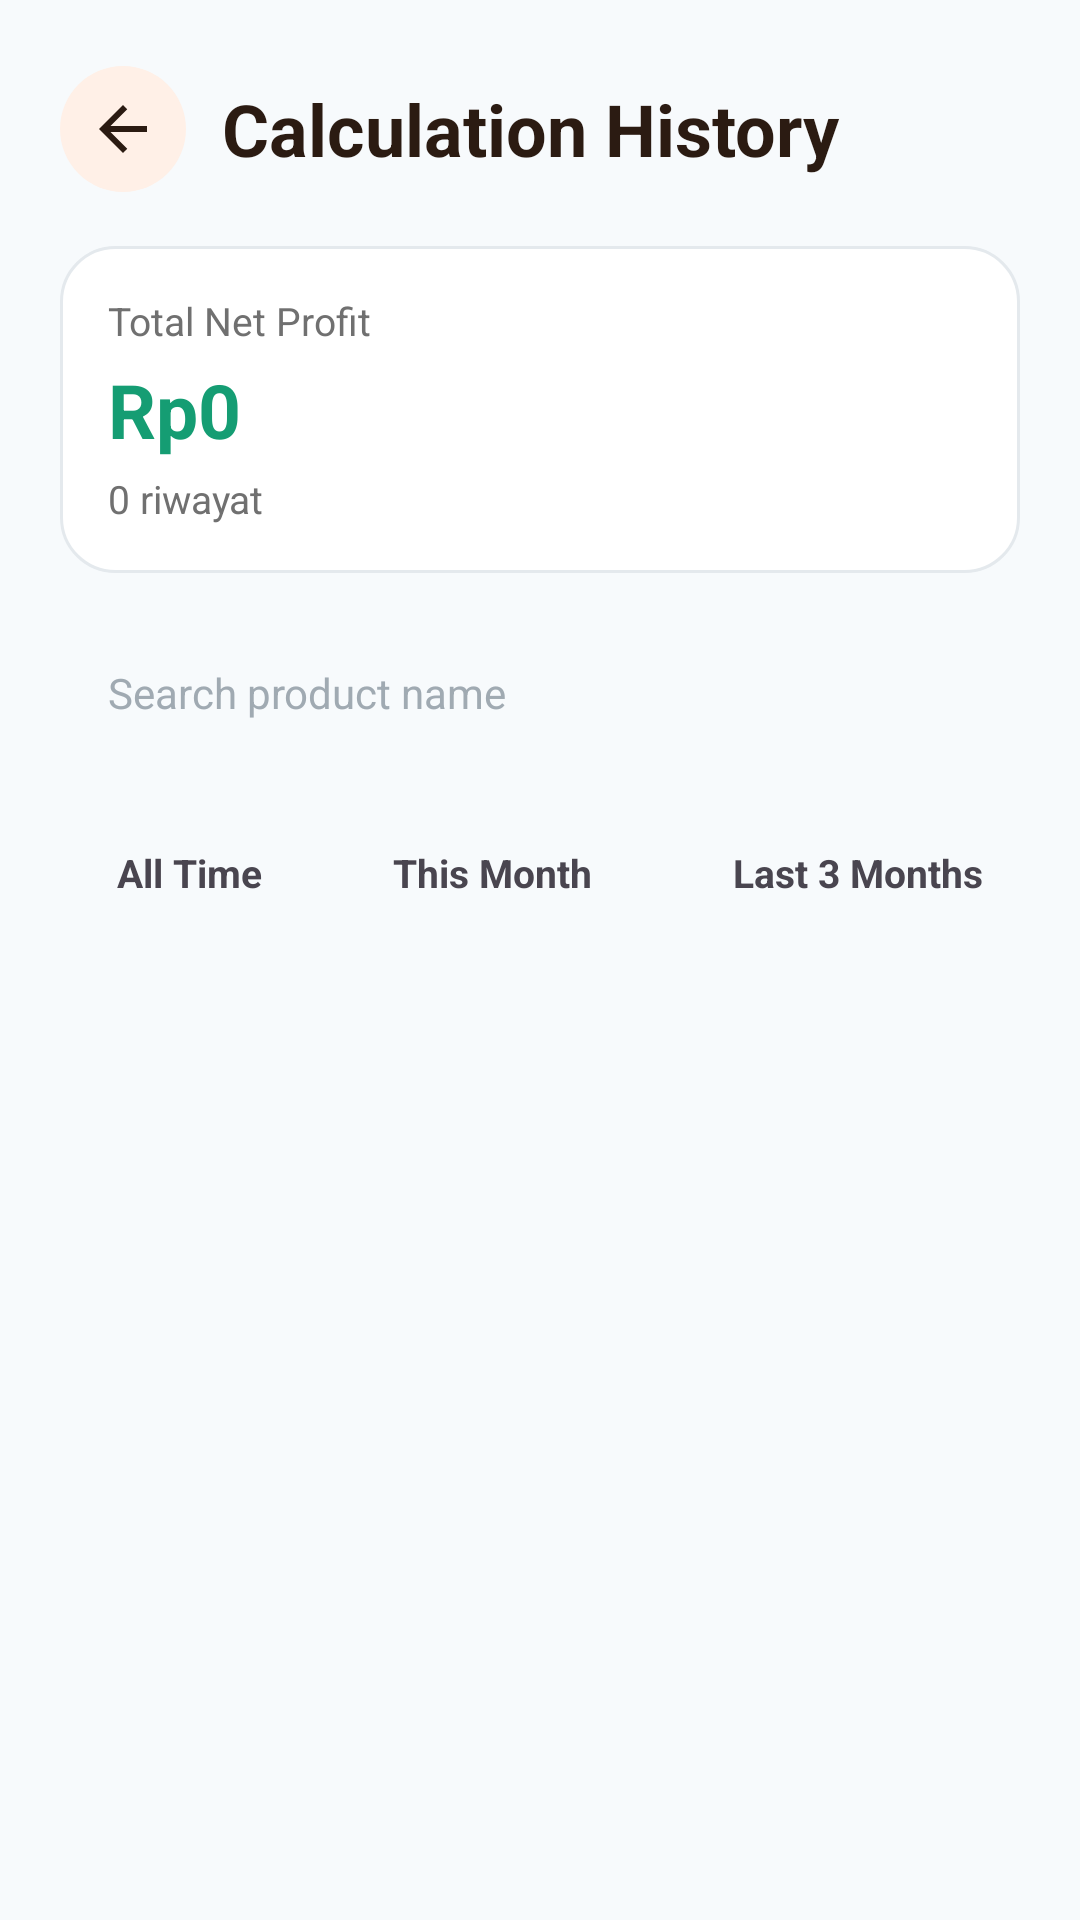

Screen size 1080 x 1920. Icon name, then its center in pixels as (x=x, y=y):
Kembali: (x=123, y=129)
